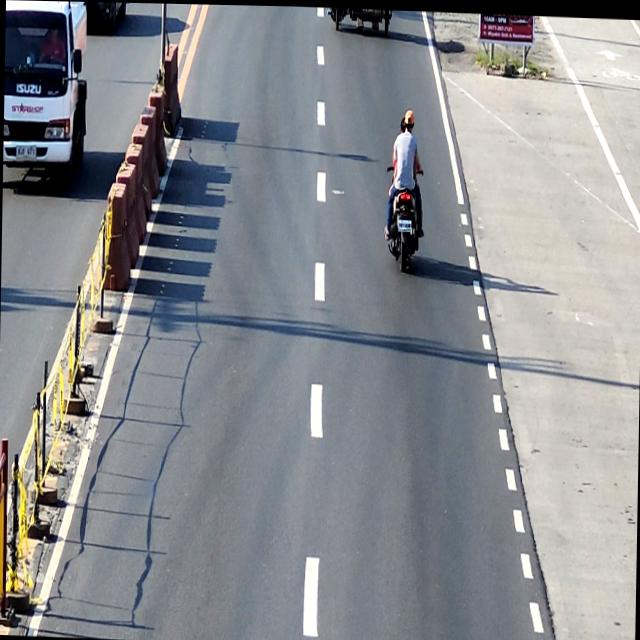License-Plate: (16, 145, 36, 159), (396, 217, 412, 231)
Motorcycle: (386, 157, 424, 272)
Tricycle: (328, 6, 392, 34)
Truck: (2, 0, 89, 177)
